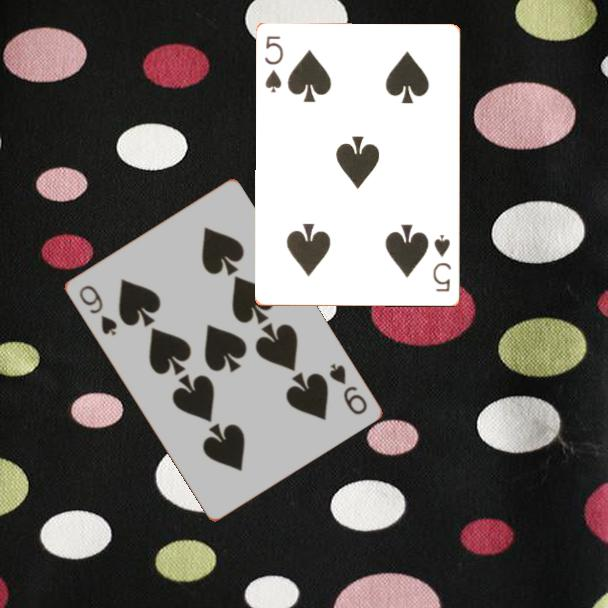s05: (430, 232, 454, 295), (262, 33, 286, 95)
s09: (75, 281, 120, 339), (325, 360, 370, 418)
